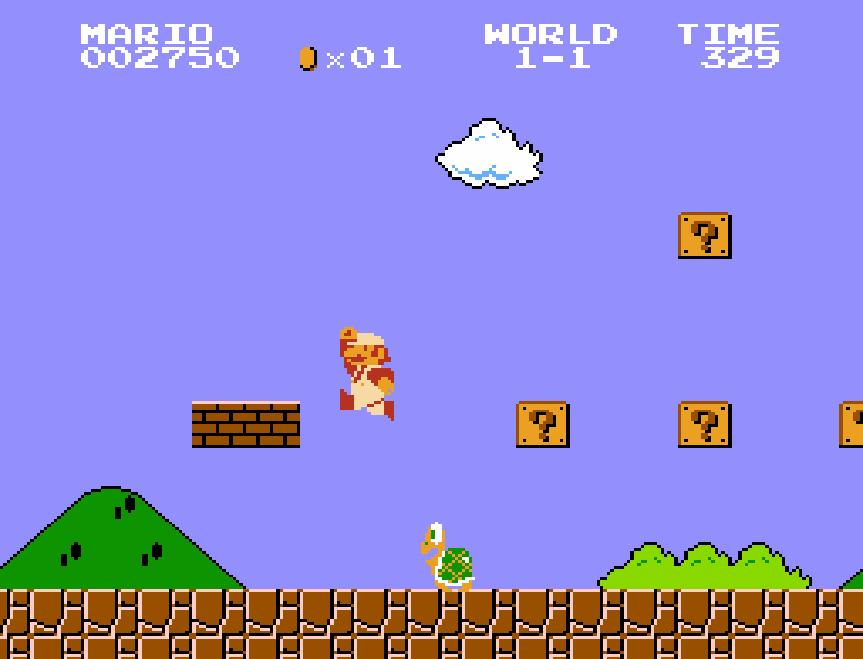fire_mario: (338, 325, 396, 423)
